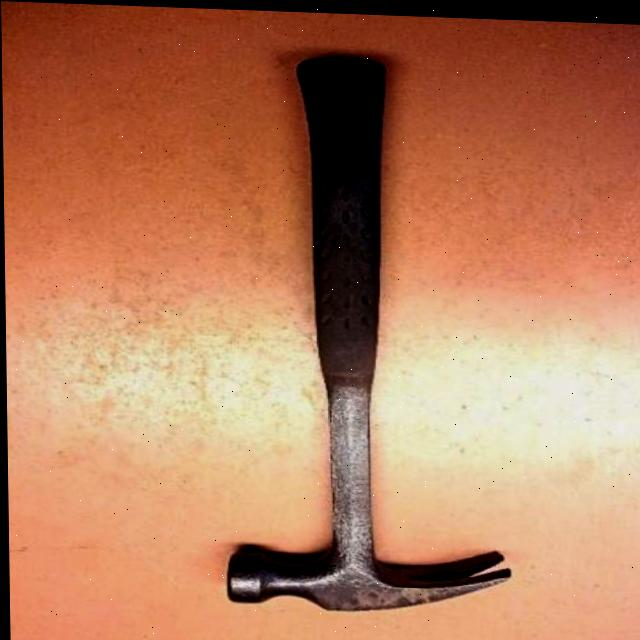hammer: (200, 38, 519, 627)
